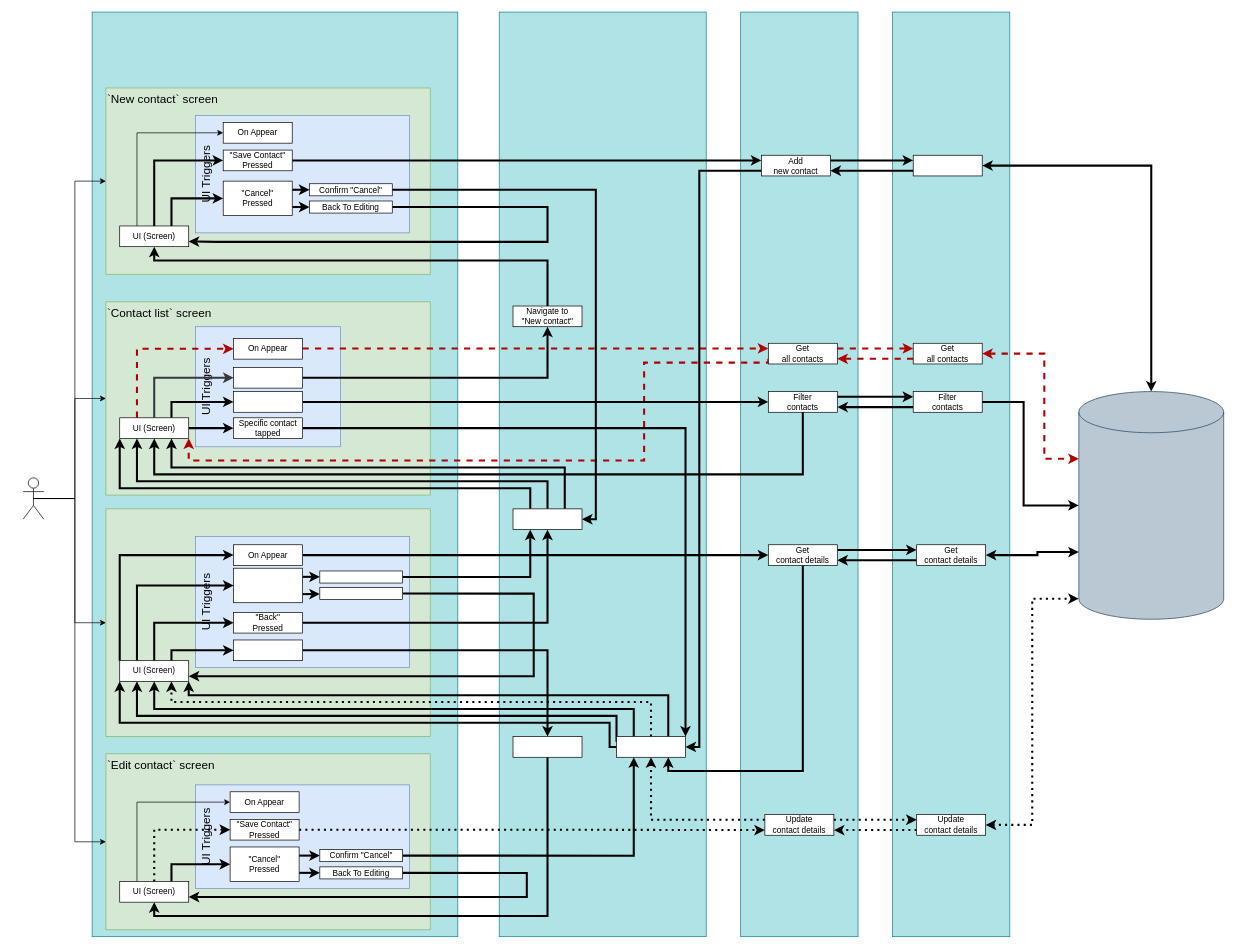
The diagram is 1236 pixels wide and 949 high, and some of its shapes have lost their labels. Each missing label, with the box of its shape:
"Delete Contact" Pressed: (233, 568, 303, 603)
"Edit Contact" Pressed: (233, 639, 303, 661)
"Find Contact" Pressed: (233, 391, 303, 412)
"New Contact" Pressed: (233, 367, 303, 388)
`Contact details` screen: (105, 508, 430, 737)
Back To Details: (319, 587, 403, 600)
Confirm "Delete": (319, 570, 403, 583)
Contacts storage (RDBMS): (1078, 391, 1224, 619)
Controller Layer: (740, 11, 858, 937)
Create new contact: (913, 155, 982, 176)
Logic Layer: (892, 11, 1010, 937)
Navigate to "Contact details": (616, 736, 686, 757)
Navigate to "Contact list": (512, 508, 582, 530)
Navigate to "Edit contact": (512, 736, 582, 757)
Navigation (Routing): (499, 11, 706, 937)
UI Layer: (91, 11, 458, 937)
User: (22, 477, 44, 519)
